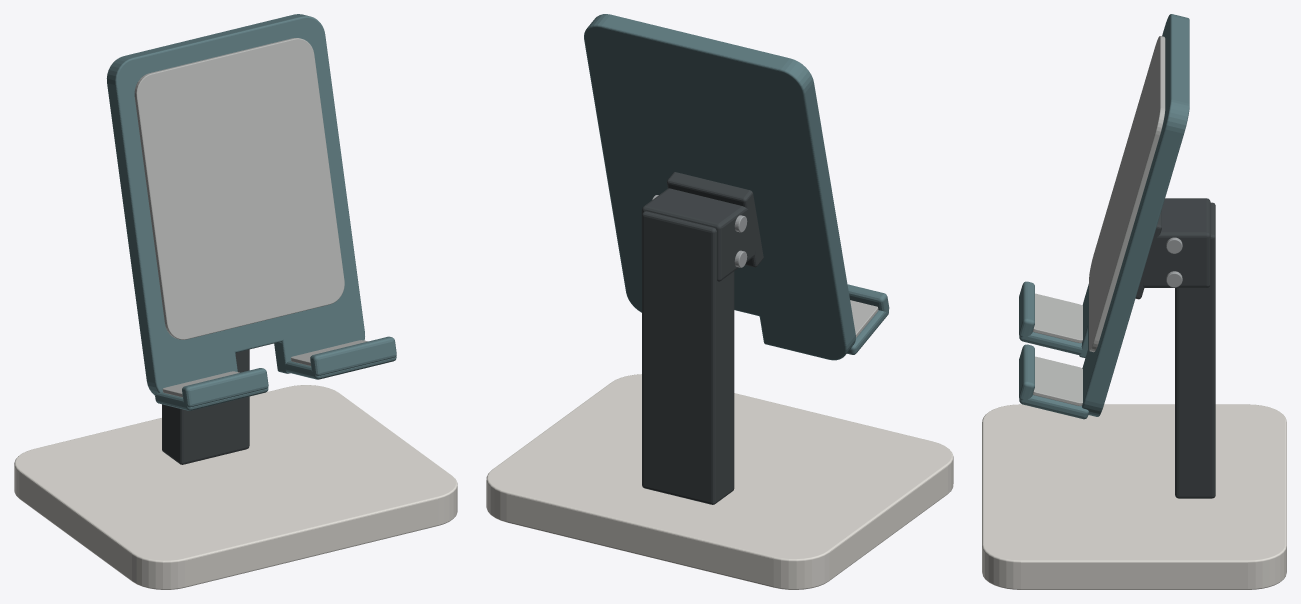
The model's file is stand-v01-base-plus20.glb.
The picture shows the model from 3 angles, left to right: view 1: azimuth 30°, elevation 25°; view 2: azimuth 150°, elevation 25°; view 3: azimuth 270°, elevation 25°; orthographic projection. The views are drawn at different scales.
Parts seen in each view (by area): view 1: BaseBody, Removable back pad, Cradle shell, Support upright, Cradle retaining lip, Cradle retaining lip.001, Cradle toe, Cradle toe.001; view 2: BaseBody, Cradle shell, Support upright, Fixed bracket, Cradle contact seat, Cradle retaining lip; view 3: BaseBody, Cradle shell, Support upright, Removable back pad, Fixed bracket, Removable toe pad, Removable toe pad.001, Cradle retaining lip, Cradle retaining lip.001, Cradle toe.001, Cradle toe.
Boxes of the visible parts, bbox=[...] form: BaseBody: bbox=[14, 385, 457, 589]; Removable back pad: bbox=[134, 38, 344, 339]; Cradle shell: bbox=[106, 14, 364, 395]; Support upright: bbox=[162, 349, 249, 464]; Cradle retaining lip: bbox=[182, 368, 268, 407]; Cradle retaining lip.001: bbox=[310, 336, 396, 375]; Cradle toe: bbox=[155, 388, 268, 410]; Cradle toe.001: bbox=[284, 356, 396, 379]; BaseBody: bbox=[486, 374, 953, 589]; Cradle shell: bbox=[584, 14, 855, 360]; Support upright: bbox=[642, 211, 734, 504]; Fixed bracket: bbox=[641, 188, 755, 281]; Cradle contact seat: bbox=[666, 172, 763, 267]; Cradle retaining lip: bbox=[847, 284, 889, 311]; BaseBody: bbox=[982, 404, 1286, 589]; Cradle shell: bbox=[1079, 14, 1189, 416]; Support upright: bbox=[1175, 202, 1215, 498]; Removable back pad: bbox=[1089, 36, 1165, 352]; Fixed bracket: bbox=[1143, 198, 1210, 287]; Removable toe pad: bbox=[1033, 293, 1082, 343]; Removable toe pad.001: bbox=[1033, 356, 1082, 405]; Cradle retaining lip: bbox=[1019, 281, 1034, 336]; Cradle retaining lip.001: bbox=[1019, 344, 1034, 399]; Cradle toe.001: bbox=[1019, 395, 1088, 419]; Cradle toe: bbox=[1019, 332, 1082, 354].
Bounding box in the file's own units: 0.11 × 0.1499 × 0.09.
